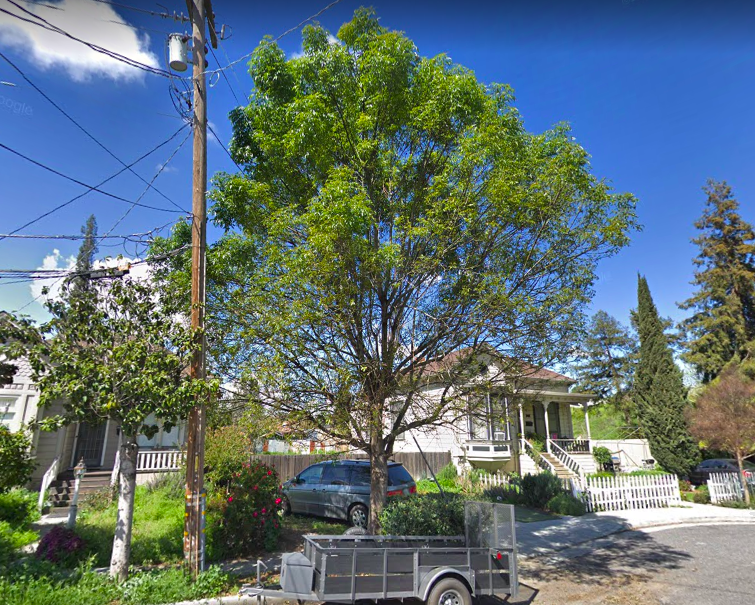tree: (149, 4, 644, 541)
